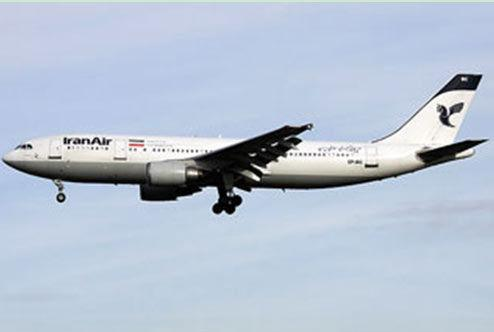airplane: (3, 73, 493, 203)
